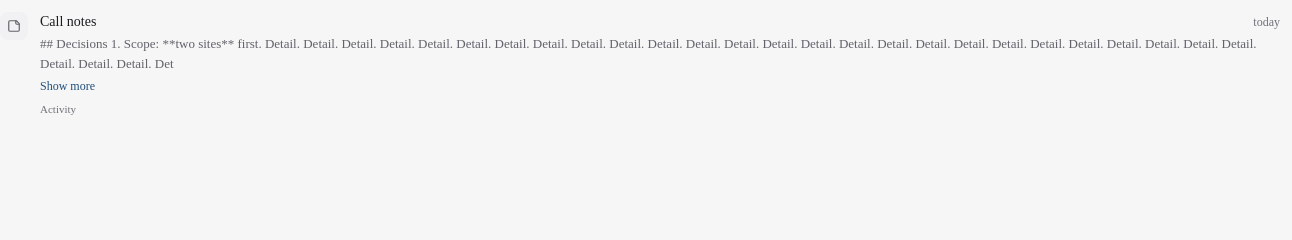
Test: RecordTimeline › loads the whole note and shows it as Markdown, then Show less
The image size is (1292, 240).
Click the button "Show more" at (68, 86), box [40,78,95,94]
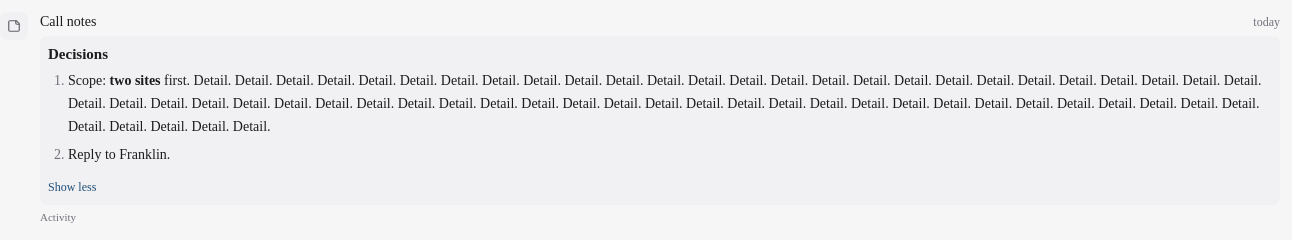
Check: the heading "Decisions" is shown, box [48,46,108,62]
Check: the element with test id "activity-full" is shown
Check: the text "Reply to Franklin." is shown, box [68,147,170,162]
Click the button "Show less" at (72, 187), box [48,179,96,195]
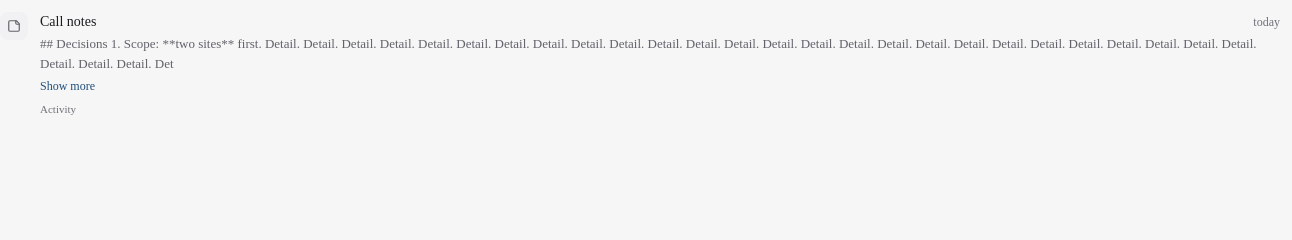
Check: the element with test id "activity-full" is gone
opening it again does not fetch again
Click the button "Show more" at (68, 86), box [40,78,95,94]
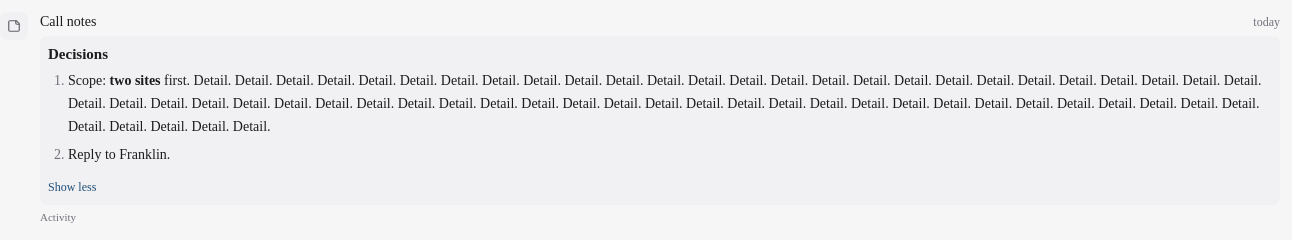
Check: the element with test id "activity-full" is shown
